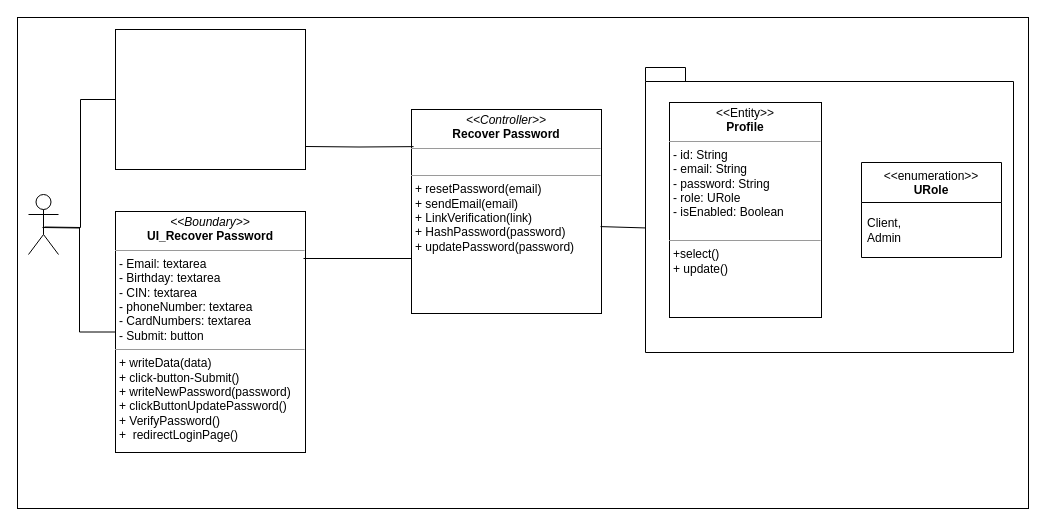
Image size: 1046x526. Some labels were removed from this diagram. The shapes that lost their labels are listed below. From the top down, each one's centre as x and y in pixels, then its label:
(x=210, y=99): <<Boundary>> UI_Email + openEmail() + clickButtonResetPassword()
(x=43, y=224): Client
